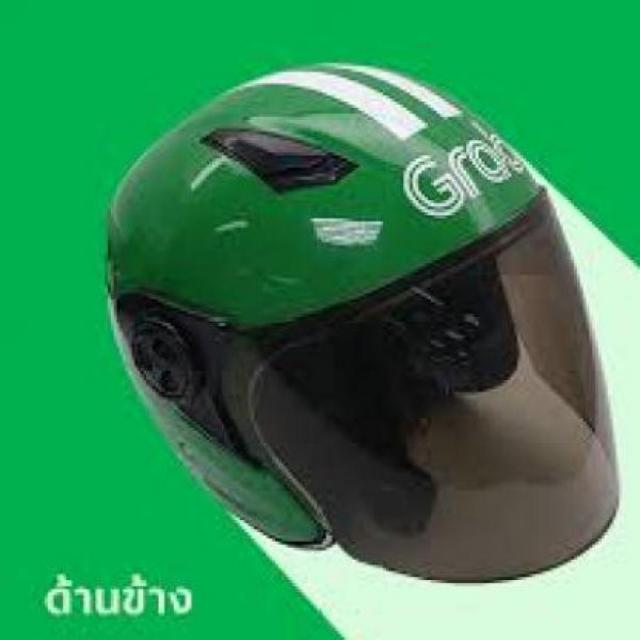Helmet: (99, 61, 625, 594)
